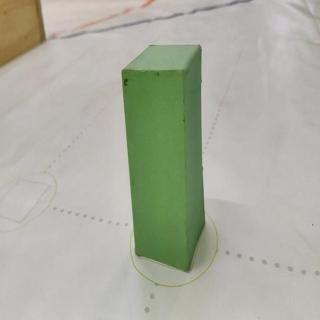greenbox: (121, 41, 204, 272)
